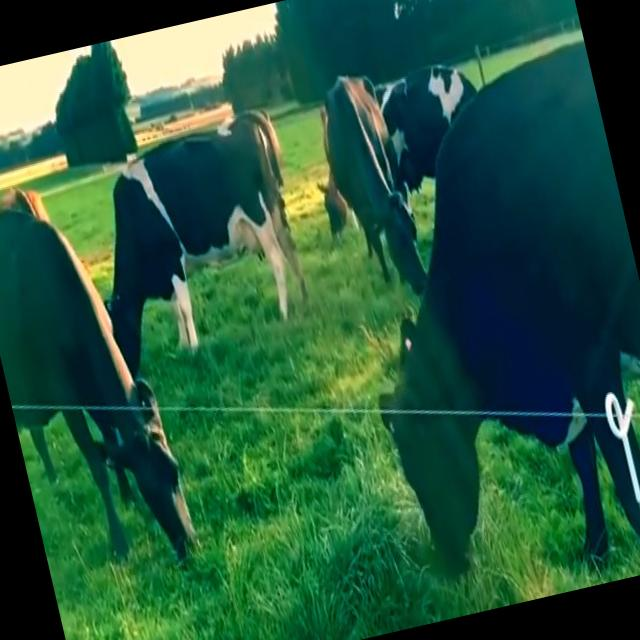cow: (323, 43, 640, 572), (0, 114, 305, 555)
